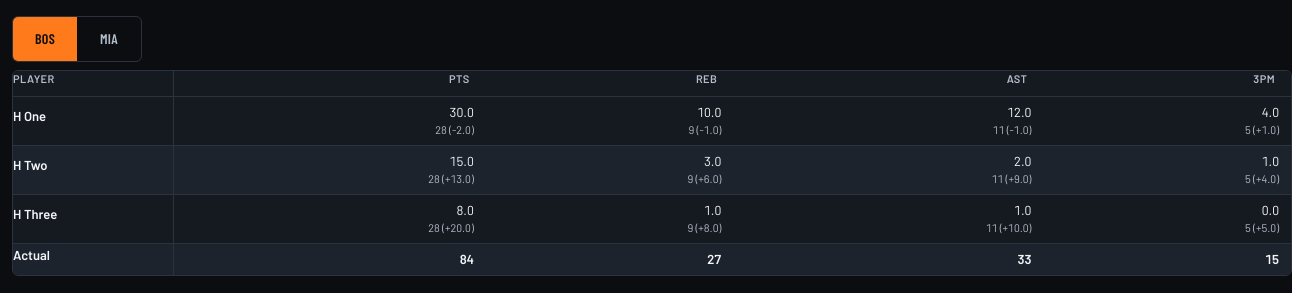
Test: PlayerBoxScore › scores a rebuilt projection never: no delta, even when it is wrong
What coordinates should you click on to do the following:
click the button "MIA"
I would click on:
 (109, 39)
Its box is [77,17,141,61].
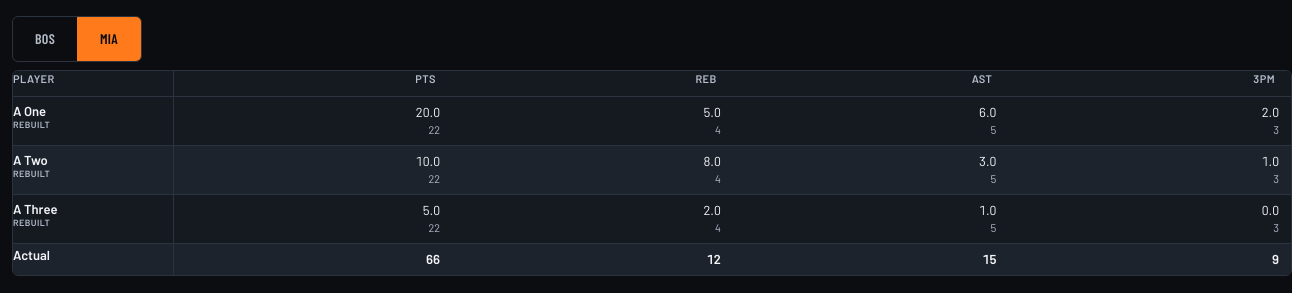
Check: the text "Rebuilt" below "A One" is shown, box [13,119,50,130]
